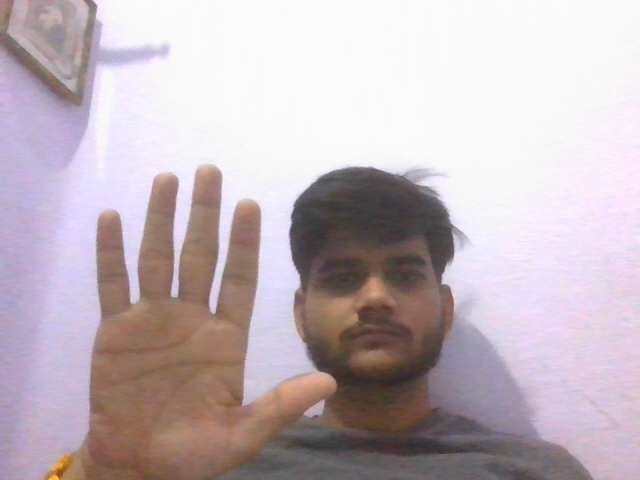hello: (55, 160, 341, 480)
